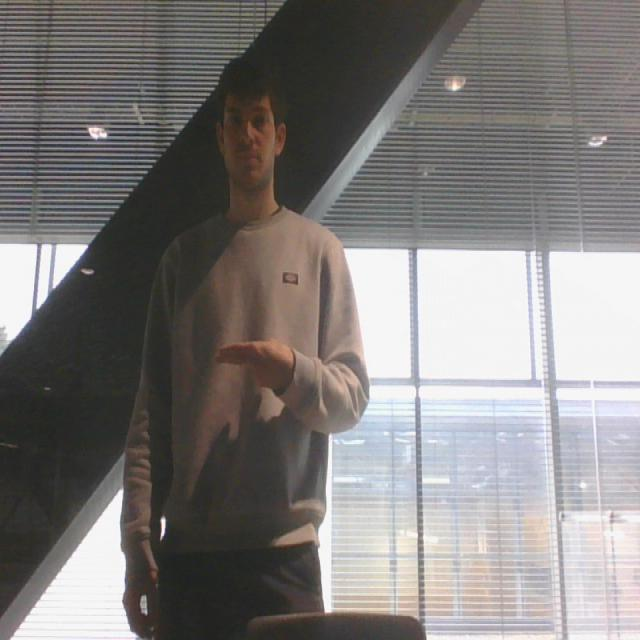left: (214, 335, 296, 404)
